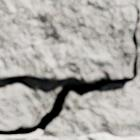brick: (0, 0, 135, 82), (0, 133, 139, 139)
crack: (0, 0, 139, 137)
